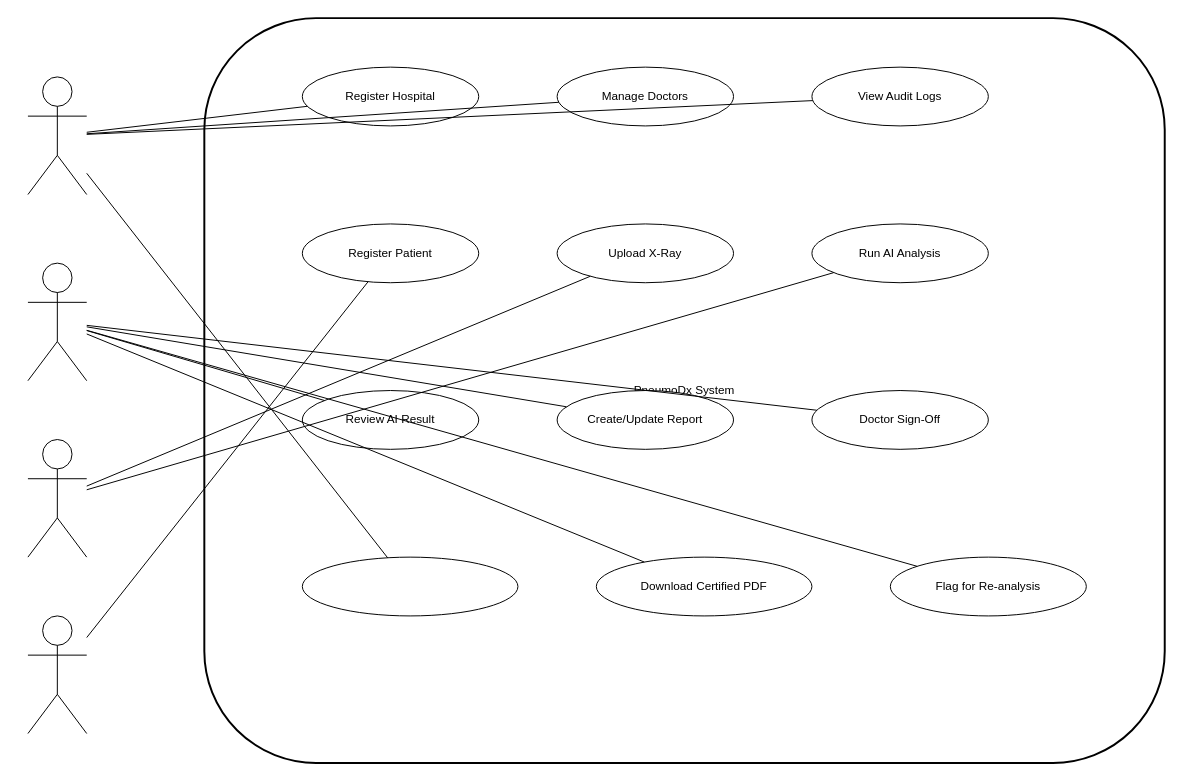
Image size: 1183x780. Some labels were removed from this diagram. Here are the shapes that lost their labels. From the top down, the centre of each, then its label:
At (x=57, y=135): "Hospital Admin".
At (x=57, y=321): "Doctor".
At (x=57, y=498): "Radiologist".
At (x=409, y=586): "Admin Co-Sign & Certify".
At (x=57, y=674): "Staff/Reception".
